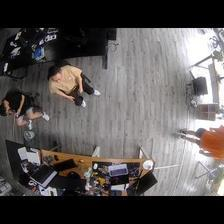normal: (47, 66, 99, 106), (179, 118, 224, 162)
